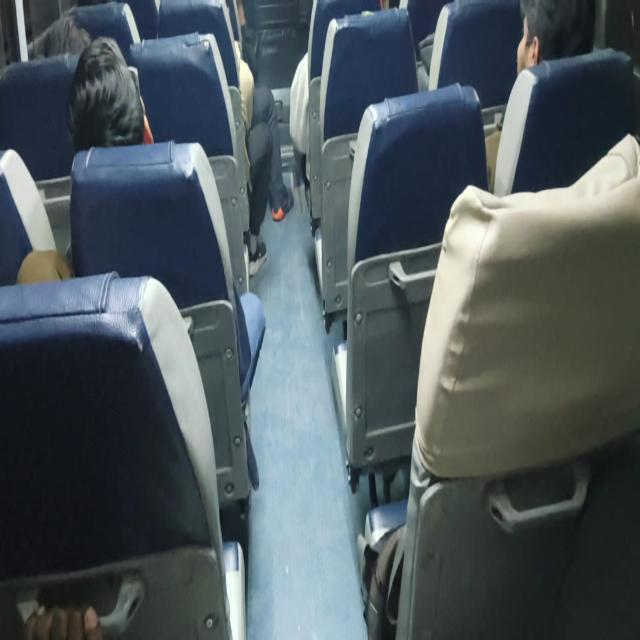person: (16, 35, 266, 489), (158, 0, 294, 276), (16, 35, 154, 284), (484, 0, 595, 193), (66, 35, 154, 151), (515, 0, 595, 76)
